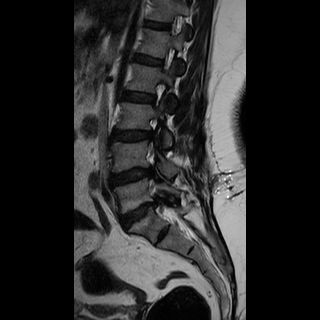RFS0: (153, 44, 179, 77), (145, 77, 170, 111)
